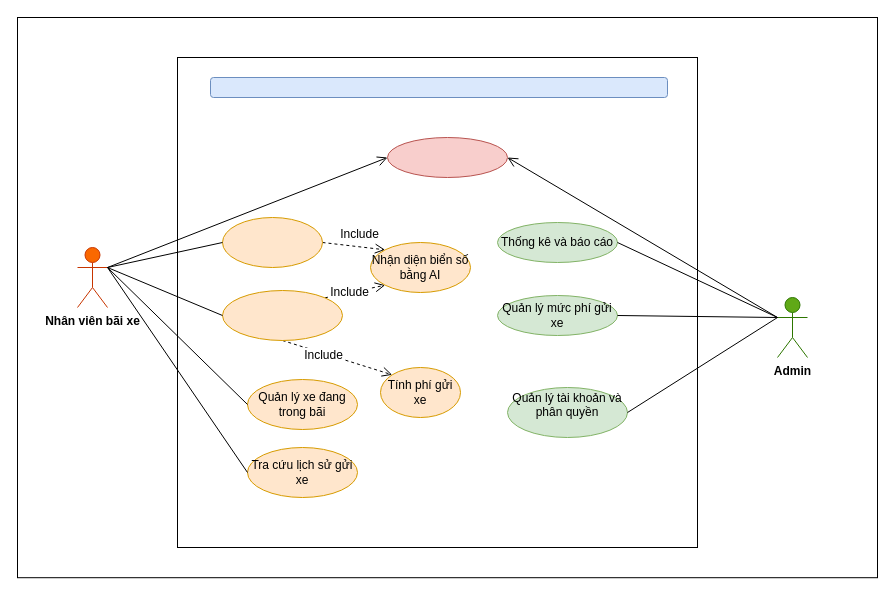
The diagram is 895 pixels wide and 596 high, and some of its shapes have lost their labels. Each missing label, with the centre of its shape:
Ghi nhận xe ra khỏi bãi: point (282, 315)
Ghi nhận xe vào bãi: point (272, 242)
HỆ THỐNG KIỂM SOÁT XE RA VÀO BÃI ĐỖ: point (439, 87)
Đăng nhập: point (447, 157)
